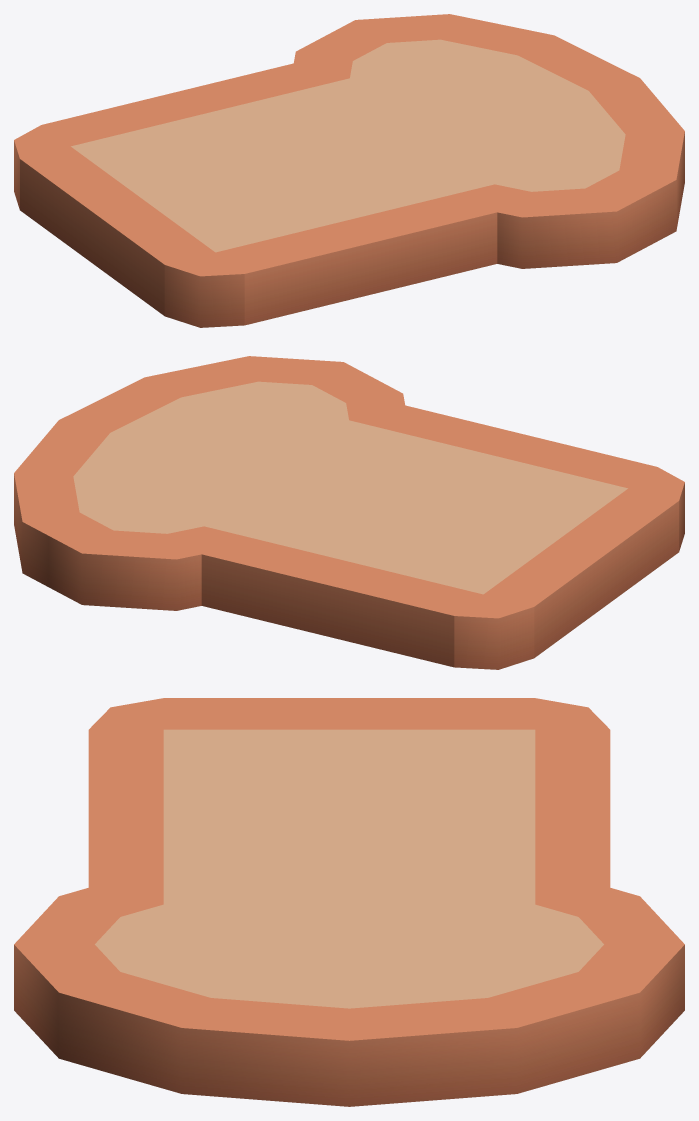
The model's file is k-food-bread.glb.
3 renders of one model, top to bottom at view 1: azimuth 30°, elevation 25°; view 2: azimuth 150°, elevation 25°; view 3: azimuth 270°, elevation 25°, orthographic. The views are drawn at different scales.
Parts seen in each view (by area): view 1: bread; view 2: bread; view 3: bread.
Boxes of the visible parts, x1,y1,x2,y2 form: bread: [14, 14, 684, 327]; bread: [14, 356, 684, 669]; bread: [14, 698, 684, 1106].
Bounding box in the file's own units: 0.4423 × 0.0397 × 0.3659.
Materials: 1 (1 with a texture image).
